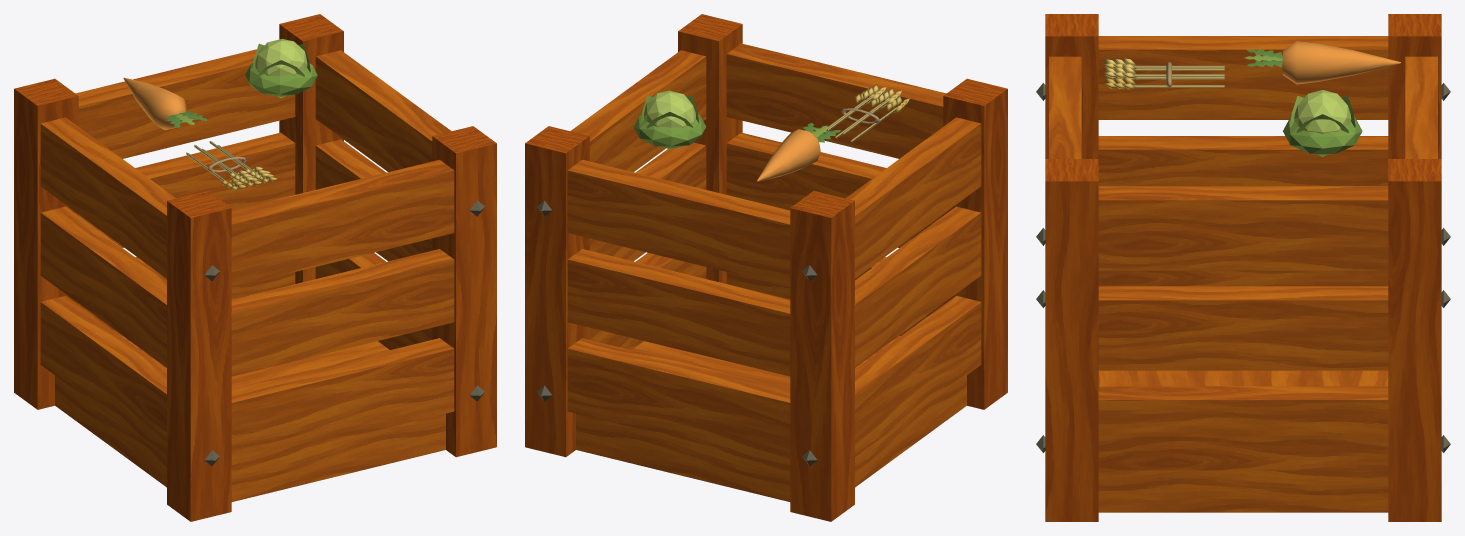
File: farm-collection-box-13.gltf
3 views of the same model, side by side, from view 1: azimuth 30°, elevation 25°; view 2: azimuth 150°, elevation 25°; view 3: azimuth 270°, elevation 25° (orthographic). The views are drawn at different scales.
Visible parts, largest first — view 1: farm-collection-box-13; view 2: farm-collection-box-13; view 3: farm-collection-box-13.
Part boxes in pixels (x1,y1,x2,y2): farm-collection-box-13: [14, 14, 496, 521]; farm-collection-box-13: [525, 14, 1007, 521]; farm-collection-box-13: [1036, 14, 1450, 521].
Size of the model in its own units: 0.8002 by 0.8448 by 0.8382.
Materials: 2 (1 with a texture image).
